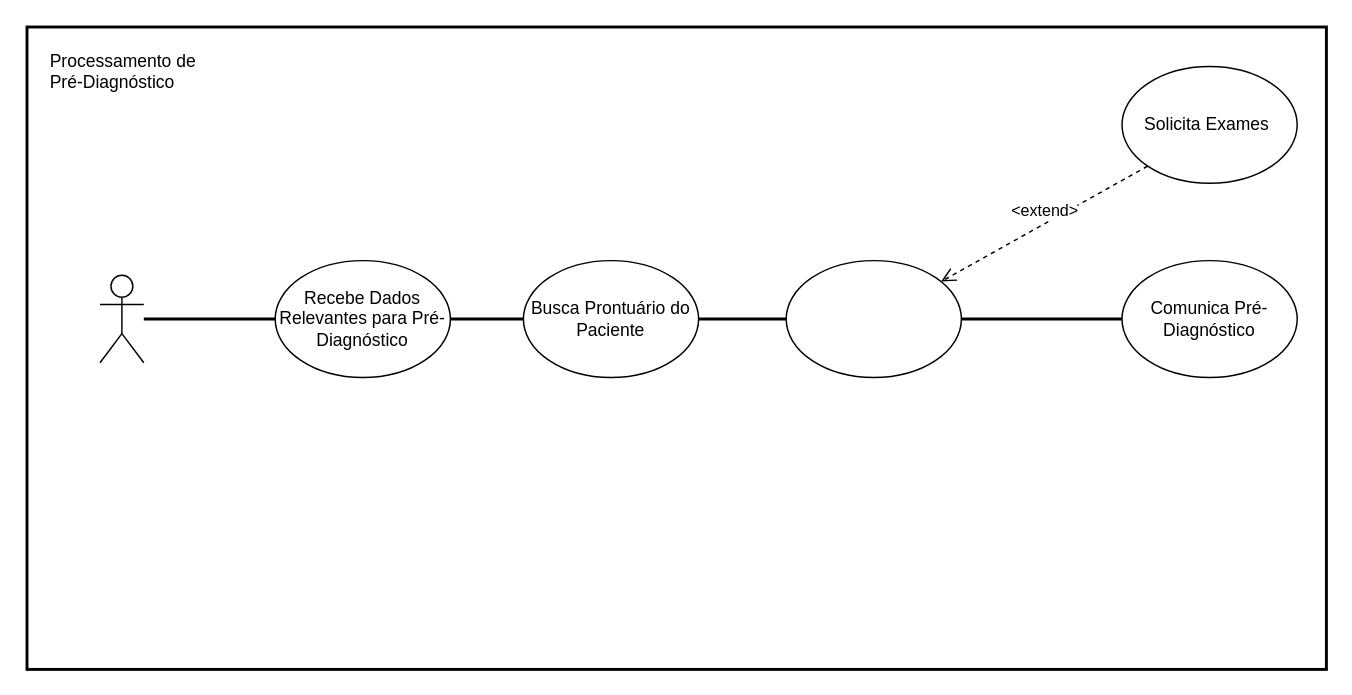
The diagram is 1352 pixels wide and 695 high, and some of its shapes have lost their labels. Here are the shapes that lost their labels. From the top down, the box of each, then its label:
(99, 274, 144, 363): Sistema Pacientes
(785, 259, 961, 377): Processa os dados e realiza a indicação de diagnóstico
